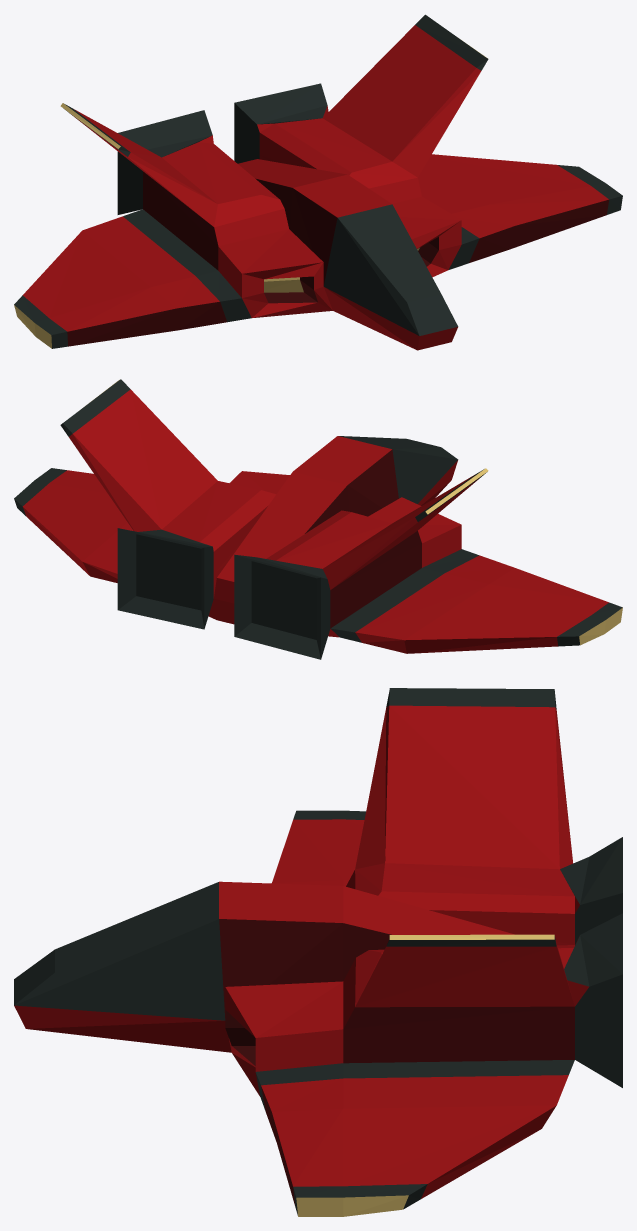
The model's file is StarShip2.fbx.
The picture shows the model from 3 angles, top to bottom: view 1: azimuth 30°, elevation 25°; view 2: azimuth 150°, elevation 25°; view 3: azimuth 270°, elevation 25°; orthographic projection. The views are drawn at different scales.
Parts seen in each view (by area): view 1: StarShip2; view 2: StarShip2; view 3: StarShip2.
Part boxes in pixels (x1,y1,x2,y2): StarShip2: (14, 14, 622, 350); StarShip2: (14, 379, 622, 659); StarShip2: (14, 688, 622, 1216).
Size of the model in its own units: 10.41 by 2.79 by 6.92.
